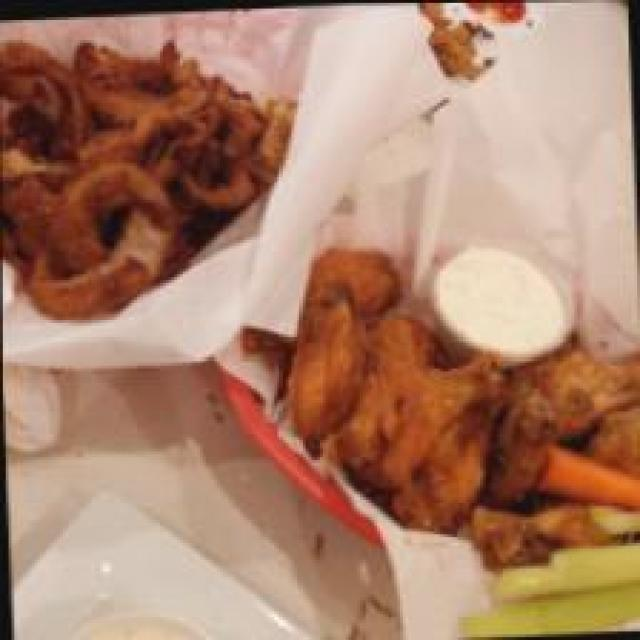Chicken Wings: (269, 217, 640, 585)
Onion Rings: (0, 18, 300, 313)
